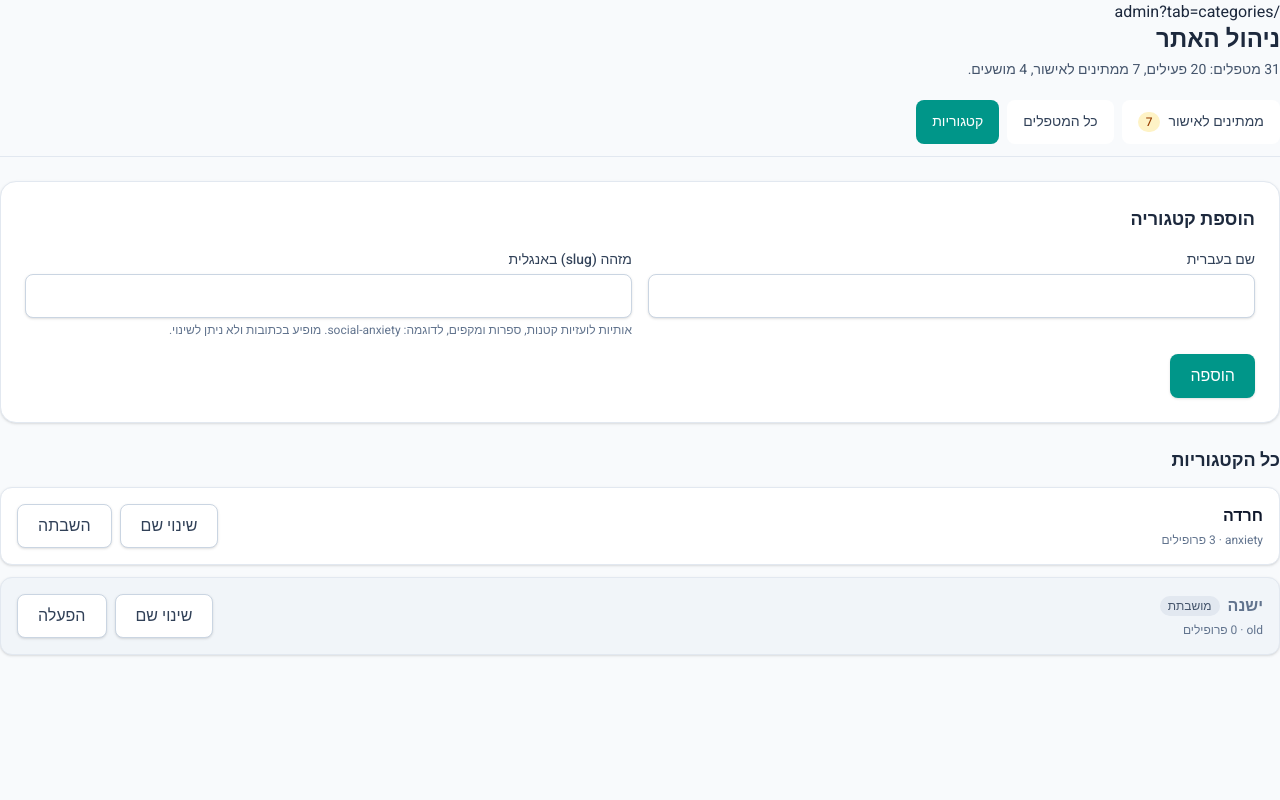
Scenario: AdminPage: categories › adds a category with a Hebrew name and a latin slug
Expected: the heading "ניהול האתר" is shown, [1156,22,1279,57]
Expected: the text "חרדה" is shown, [1223,504,1263,528]
Type "חרדה חברתית" into the field labelled "שם בעברית" at (952, 296), box [648,274,1255,318]
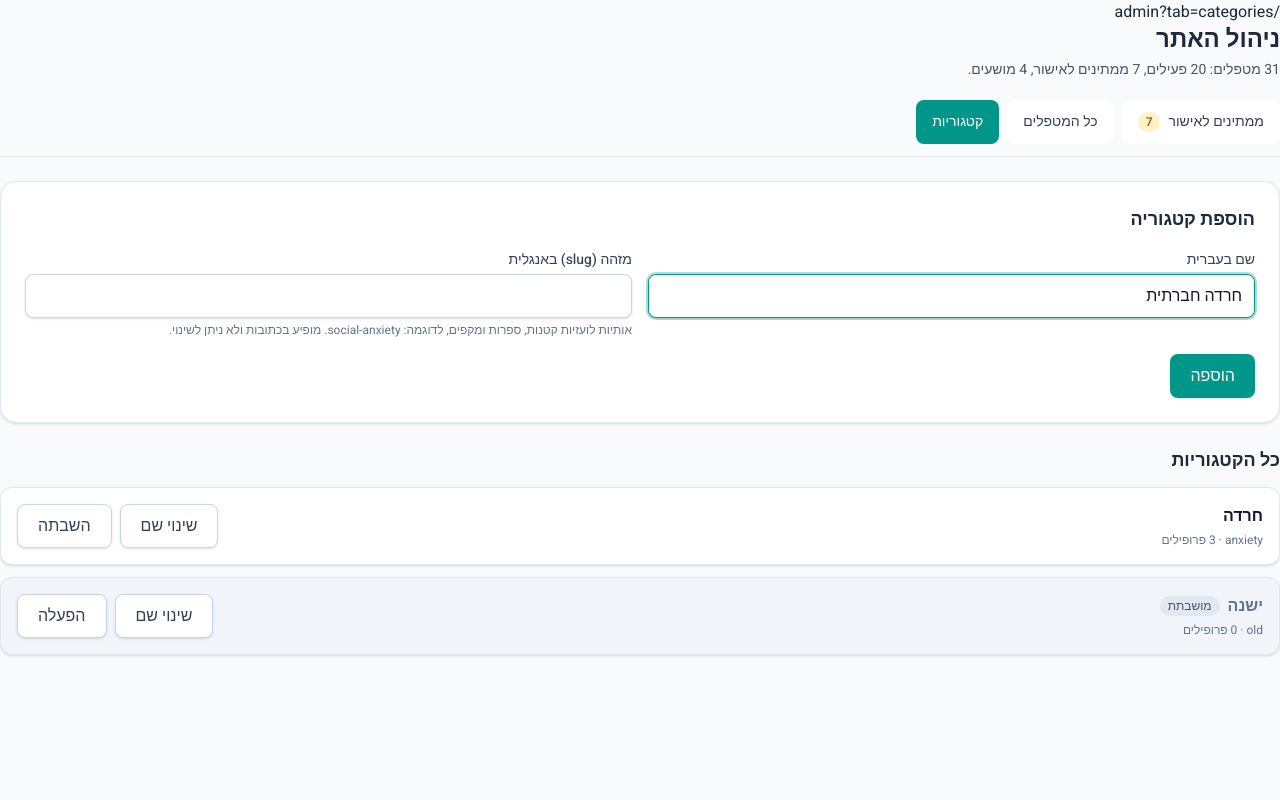
Type "social-anxiety" into the field labelled "מזהה (slug) באנגלית" at (328, 296), box [25,274,632,318]
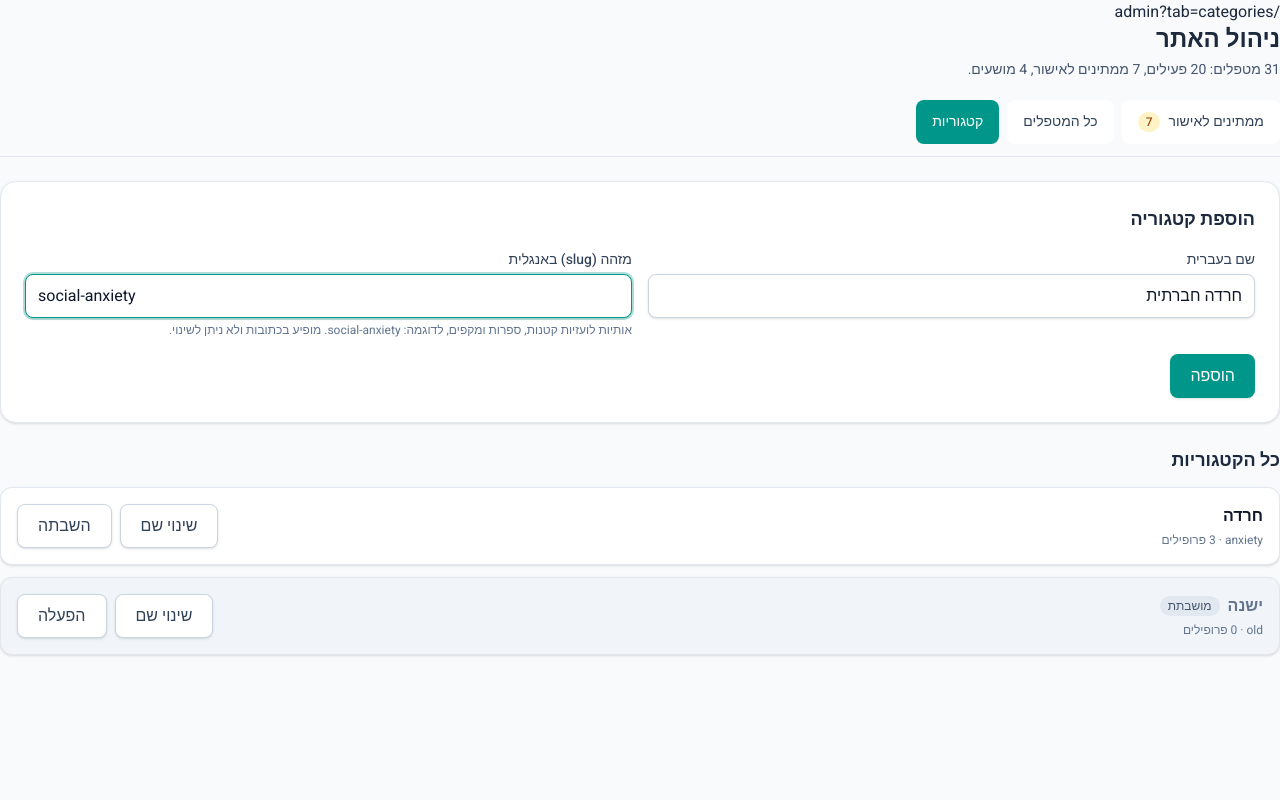
Click the button "הוספה" at (1213, 376), box [1170,354,1255,398]
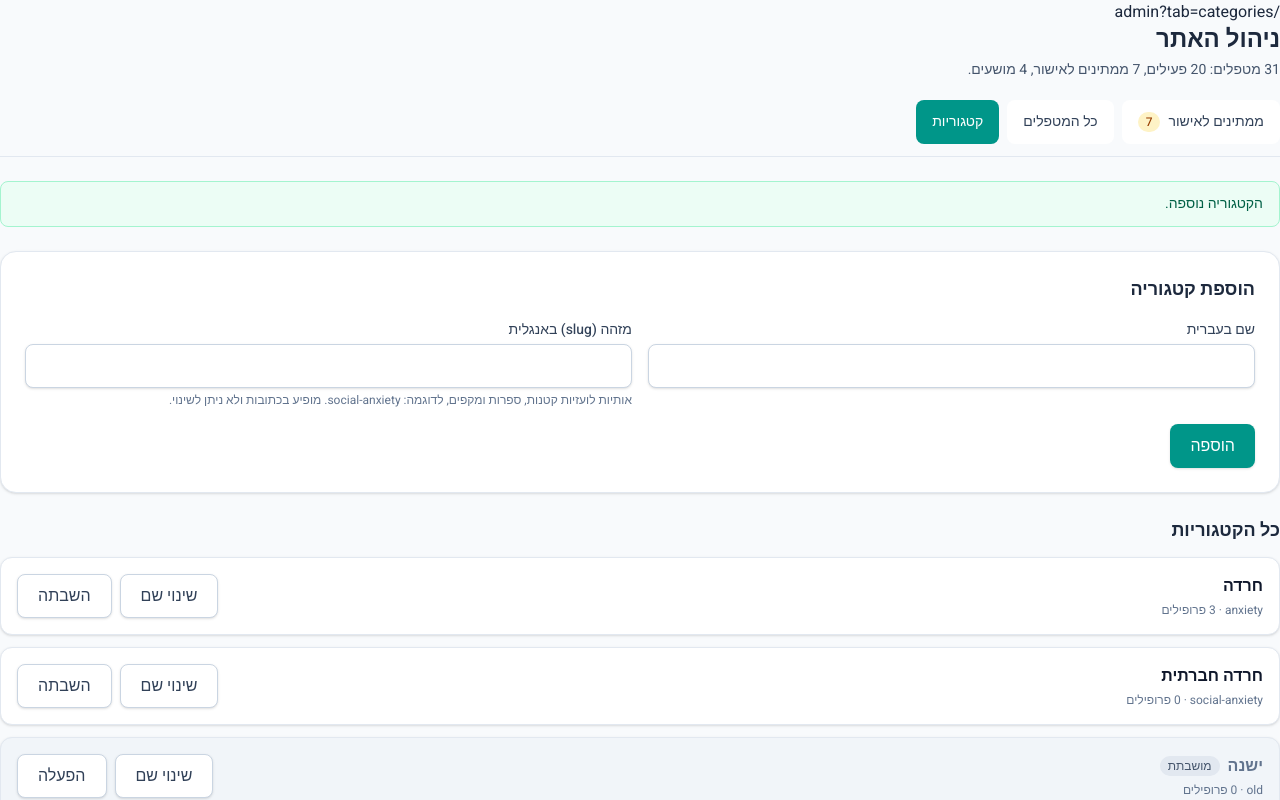
Expected: the text "הקטגוריה נוספה." is shown, [0,181,1279,227]
Expected: the text "חרדה חברתית" is shown, [1161,664,1263,688]
Expected: the field labelled "שם בעברית" is empty, [648,344,1255,388]
